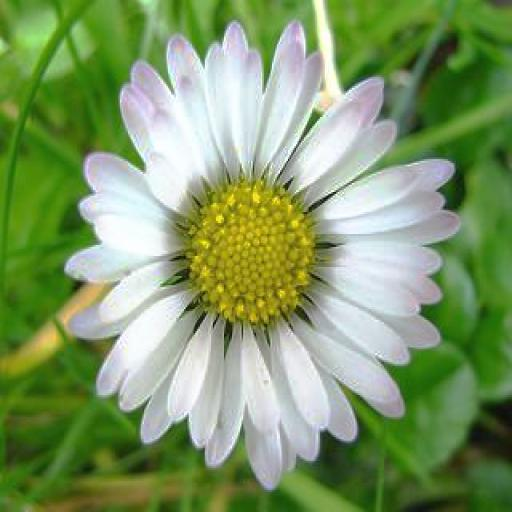daisy: (78, 38, 448, 470)
